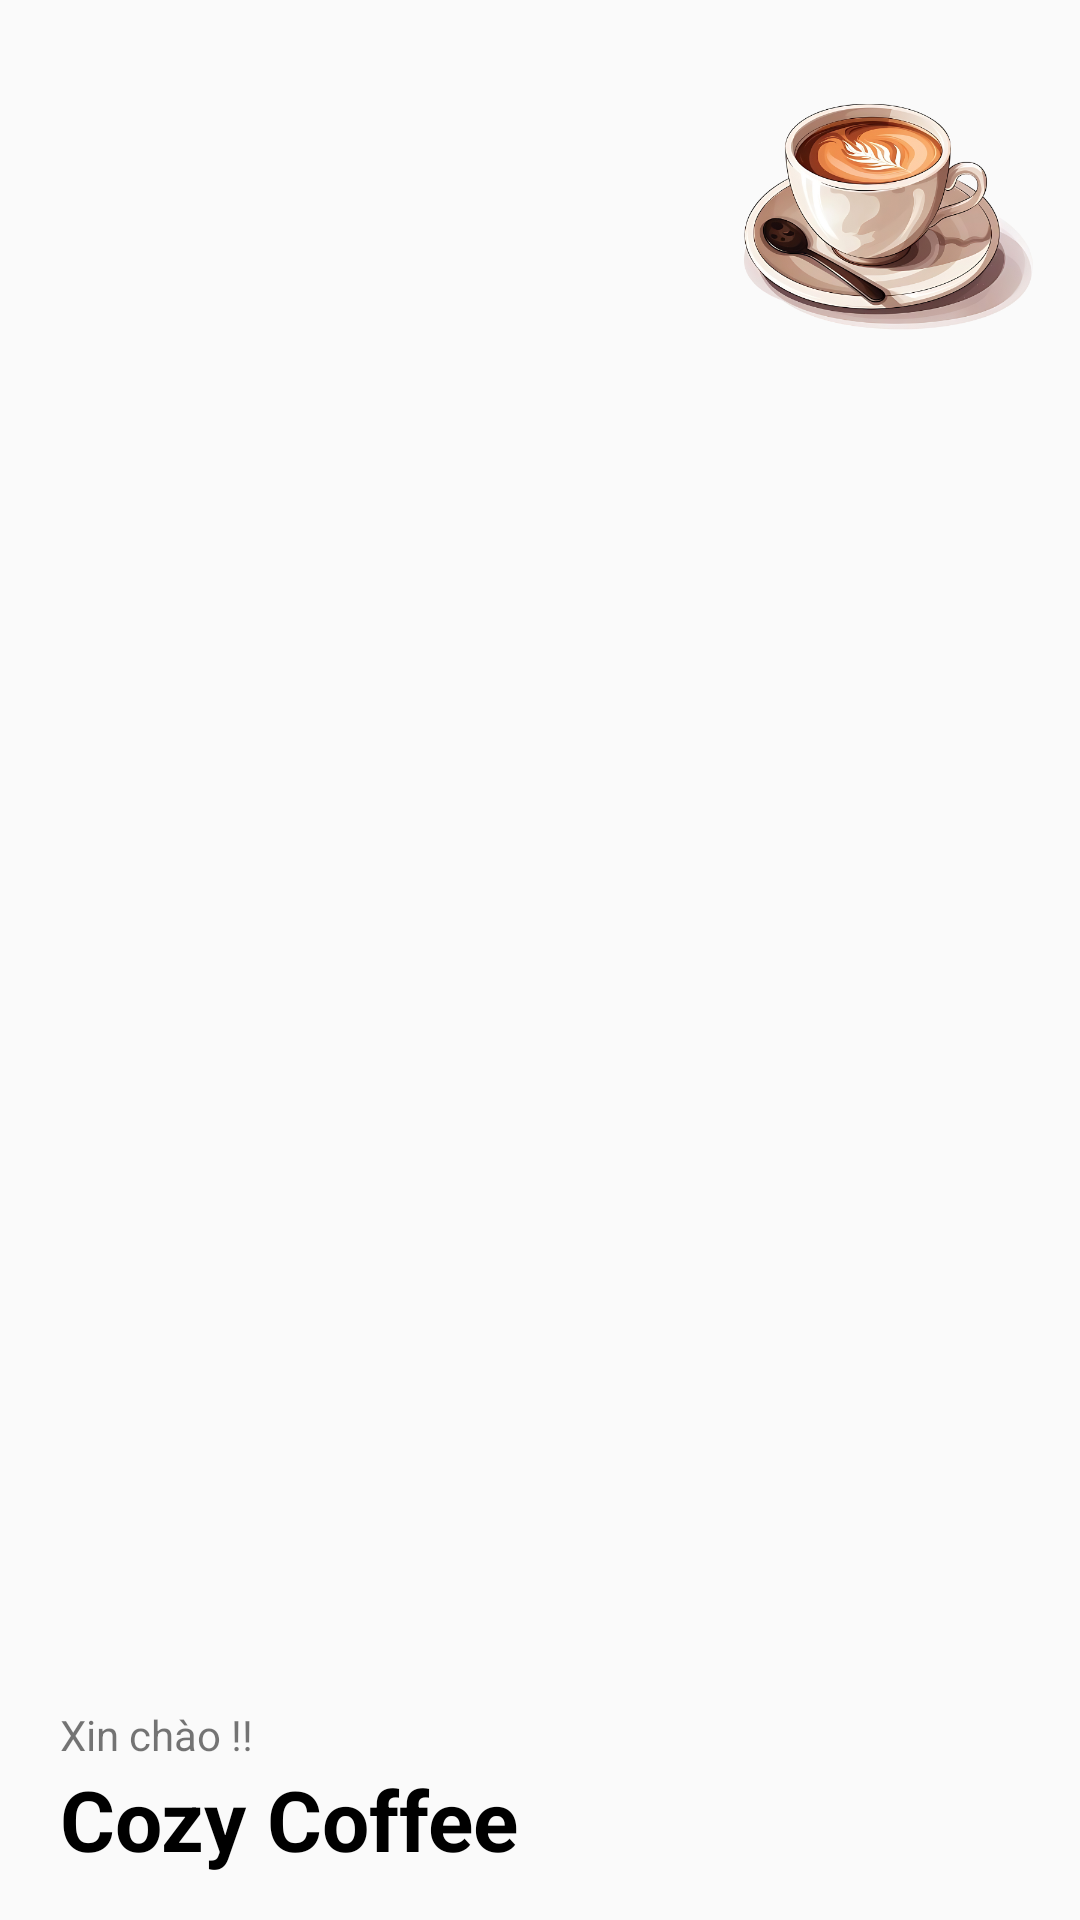

Point at icon controls on the screen. Image size 1080px x 1920px, points as point (x, y).
coffee: point (887, 216)
